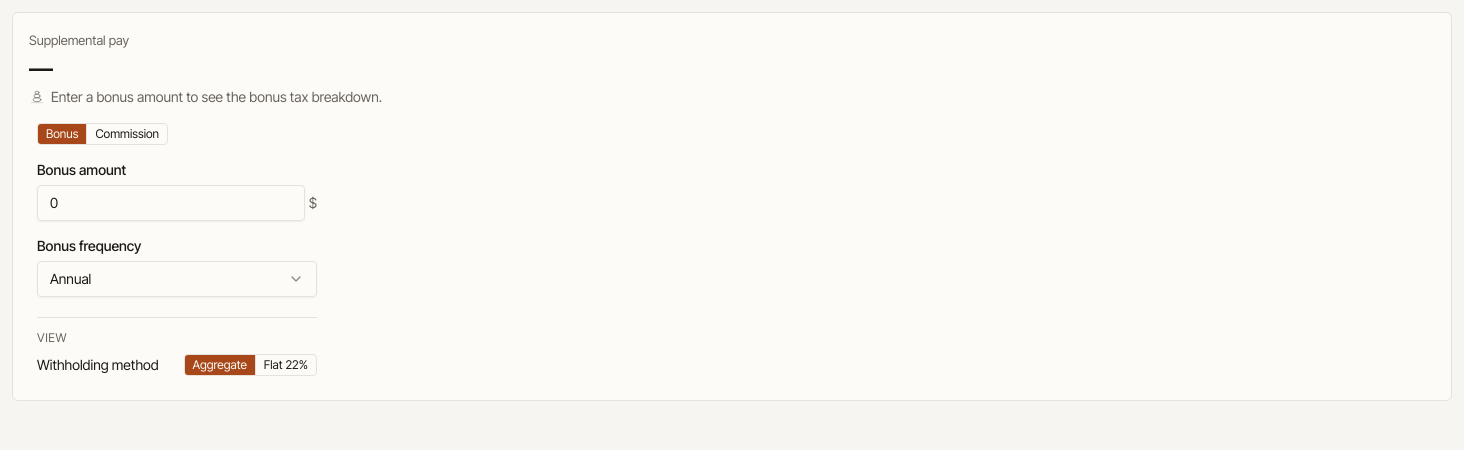
Scenario: SupplementalPayCard — Bonus segment › body shows per-jurisdiction bonus tax breakdown
Replace the text in the number field labelled "Bonus amount" with "10000": (171, 202) [37,184,305,220]
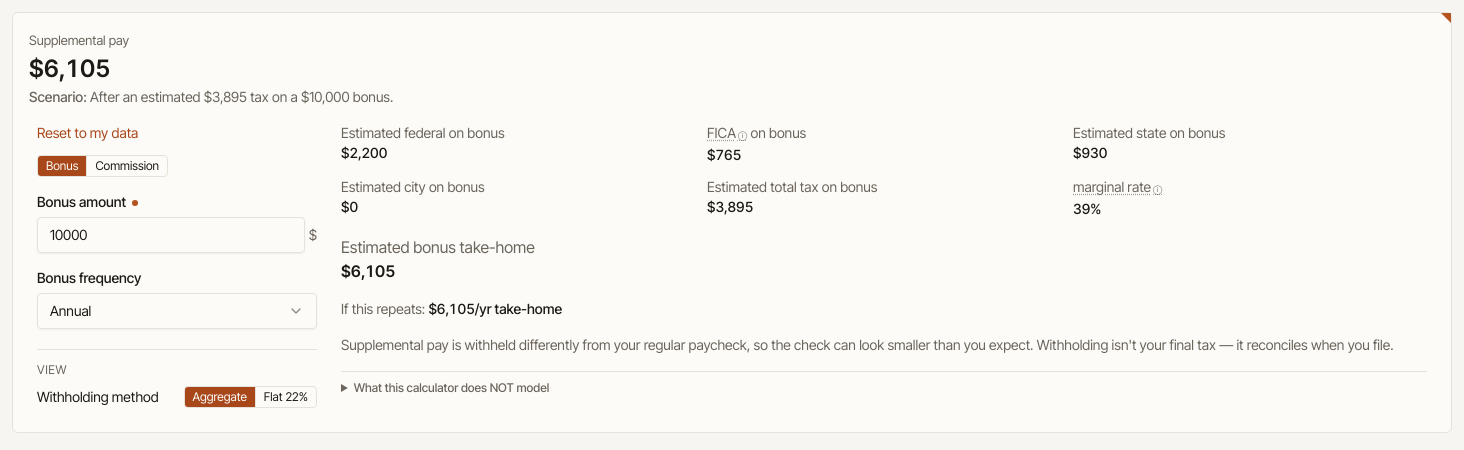
Expected: the text with test id "supplemental-headline" is shown, [29,54,110,82]
Expected: the text "Estimated federal on bonus" is shown, [341,124,505,140]
Expected: the text "Estimated state on bonus" is shown, [1073,124,1225,140]
